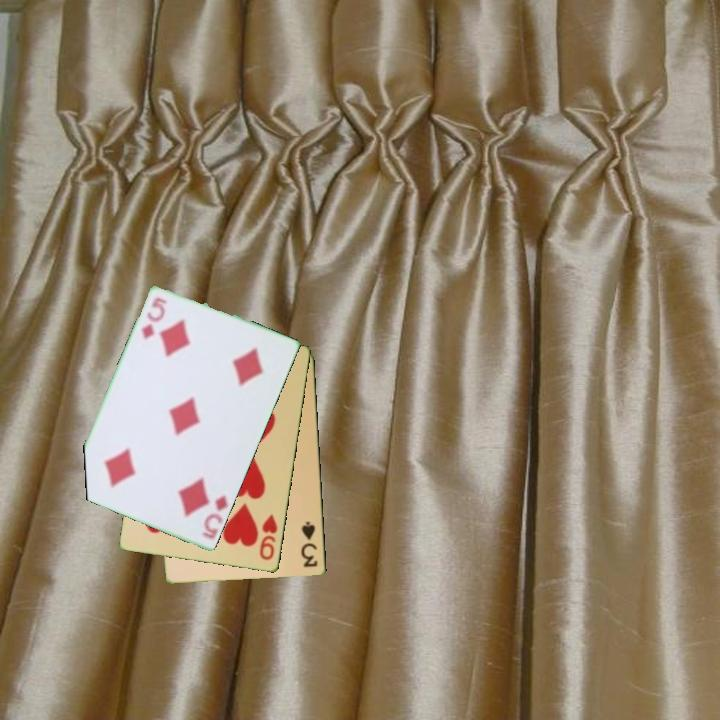3s: (298, 518, 320, 570)
5d: (199, 492, 231, 542), (138, 294, 170, 343)
9h: (256, 511, 280, 563)
